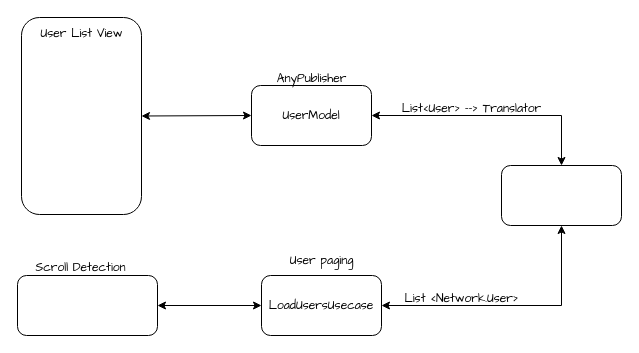
This 639x353 diagram has some shape labels left out. Each missing label, with the centre of its shape:
"CoreData" goes at (561,195).
"UserRowView(onAppear)" goes at (87,305).
